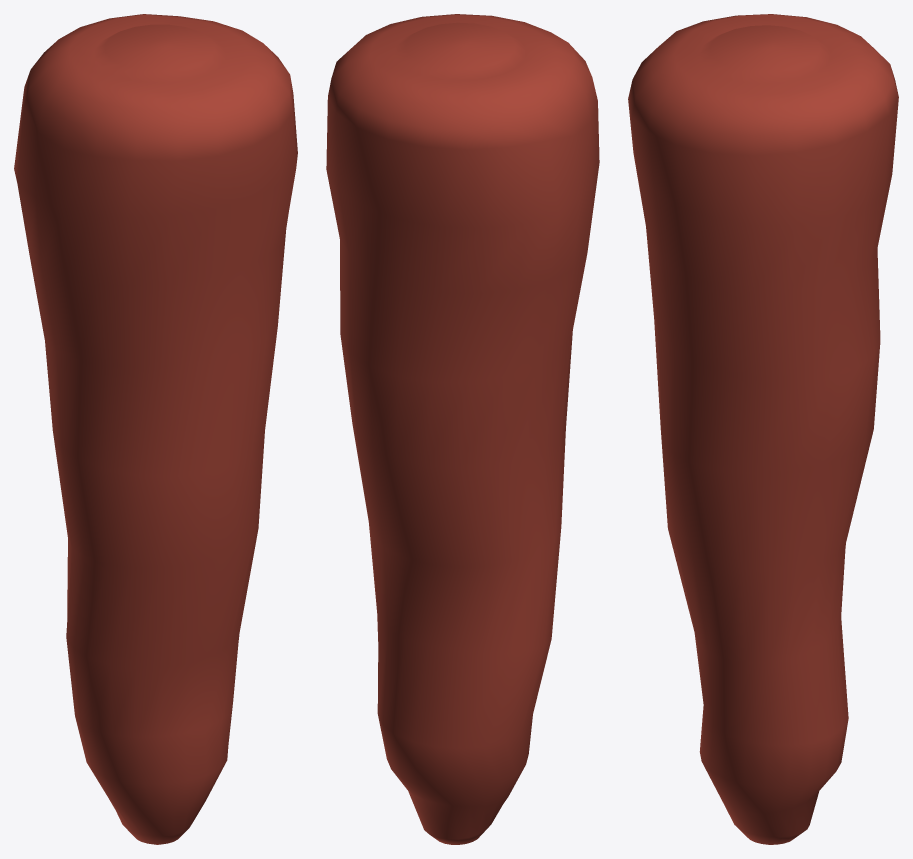
File: test_carrot.fbx
3 renders of one model, left to right at view 1: azimuth 30°, elevation 25°; view 2: azimuth 150°, elevation 25°; view 3: azimuth 270°, elevation 25°, orthographic.
Visible parts, largest first — view 1: pCylinder3; view 2: pCylinder3; view 3: pCylinder3.
Boxes of the visible parts, box(x1,y1,x2,y2) form: pCylinder3: box(14, 14, 297, 844); pCylinder3: box(326, 14, 599, 844); pCylinder3: box(628, 14, 898, 844).
Bounding box in the file's own units: 1.28 × 4.04 × 1.24.
